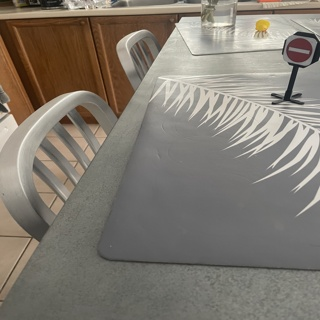sign_noentry: (283, 34, 311, 64)
